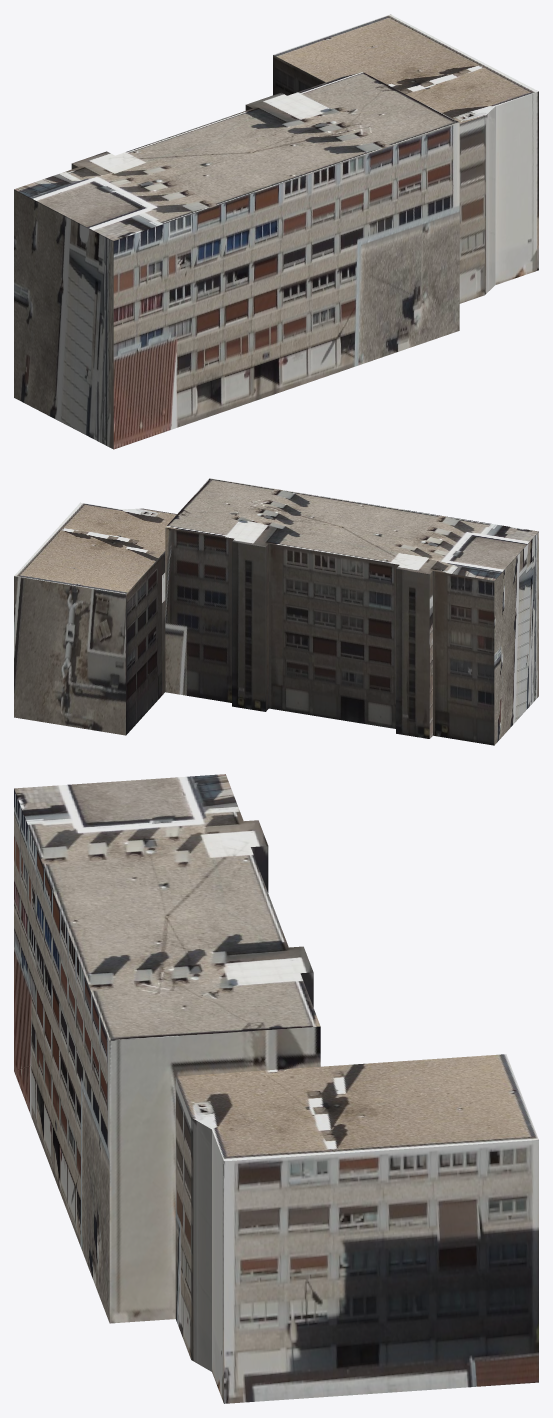
3 renders of one model, top to bottom at view 1: azimuth 30°, elevation 25°; view 2: azimuth 150°, elevation 25°; view 3: azimuth 270°, elevation 25°, orthographic. The views are drawn at different scales.
Visible parts, largest first — view 1: Z_UP; view 2: Z_UP; view 3: Z_UP.
Boxes of the visible parts, bbox=[...] form: Z_UP: bbox=[14, 14, 538, 449]; Z_UP: bbox=[14, 478, 538, 745]; Z_UP: bbox=[14, 774, 538, 1403].
Bounding box in the file's own units: 42.41 × 16.11 × 27.11.
Materials: 2 (1 with a texture image).
